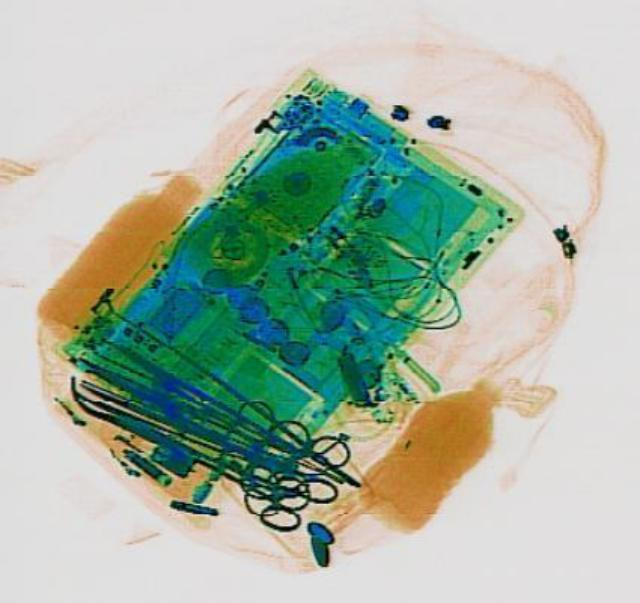Scissors: (155, 412, 339, 543)
